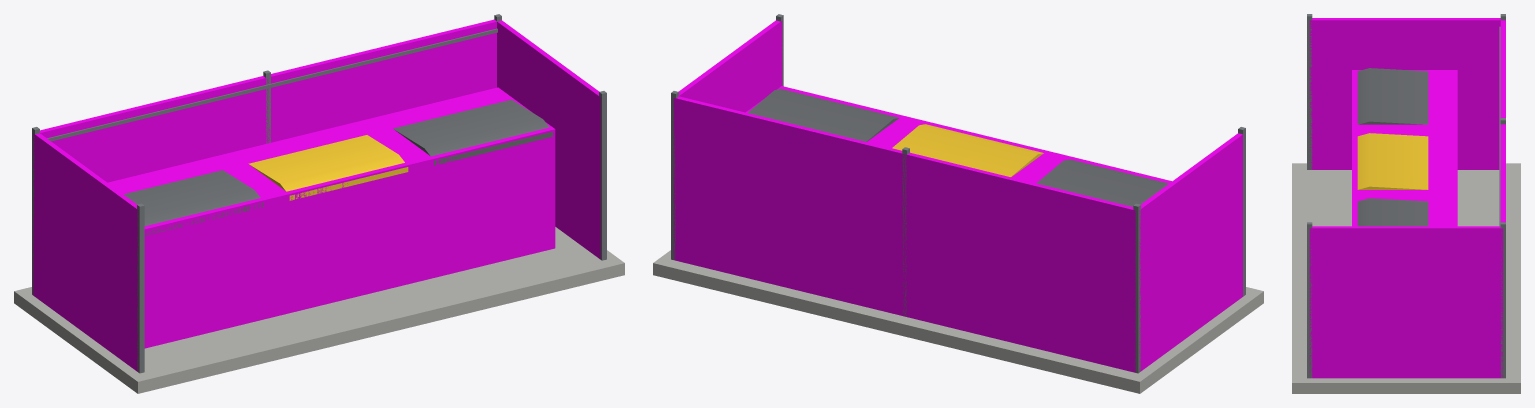
The model's file is EN_Yard_WasteSite.fbx.
The picture shows the model from 3 angles, left to right: view 1: azimuth 30°, elevation 25°; view 2: azimuth 150°, elevation 25°; view 3: azimuth 270°, elevation 25°; orthographic projection. The views are drawn at different scales.
Parts seen in each view (by area): view 1: COL_Body, EN_Yard_WasteSite_Mesh; view 2: COL_Body, EN_Yard_WasteSite_Mesh; view 3: COL_Body, EN_Yard_WasteSite_Mesh.
Part boxes in pixels (x1,y1,x2,y2): COL_Body: [33, 19, 600, 371]; EN_Yard_WasteSite_Mesh: [14, 14, 624, 393]; COL_Body: [673, 20, 1242, 372]; EN_Yard_WasteSite_Mesh: [653, 14, 1263, 393]; COL_Body: [1309, 18, 1505, 378]; EN_Yard_WasteSite_Mesh: [1292, 14, 1520, 393].
Size of the model in its own units: 5.9 by 2.07 by 2.6.
